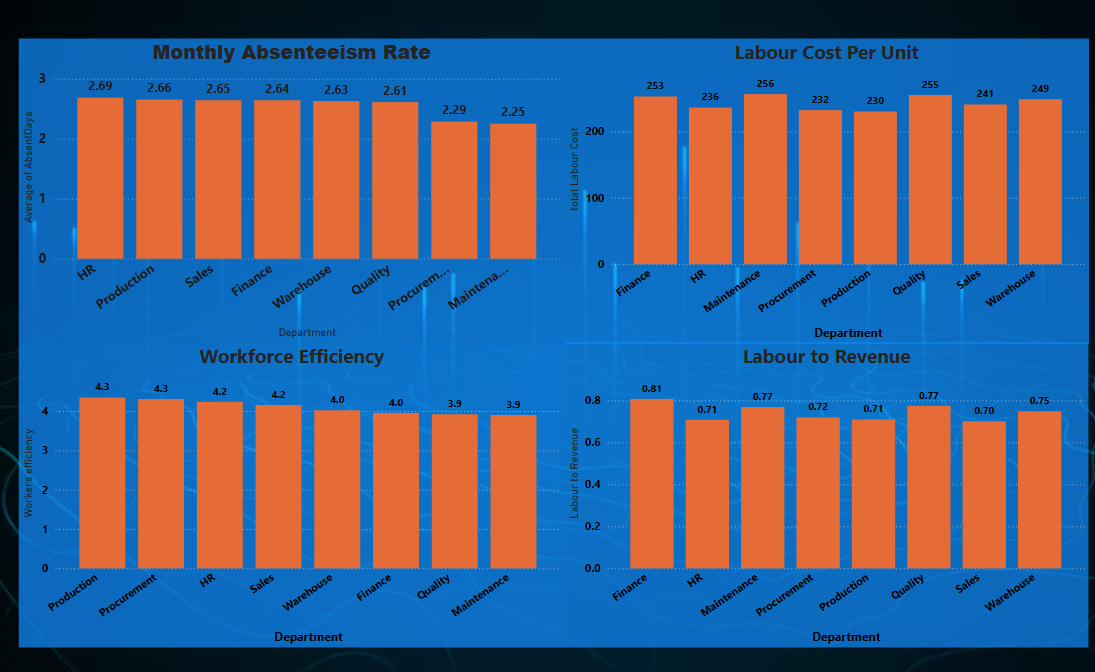

The dashboard page shown, as its layout file describes it:
{"tool":"powerbi","page":{"name":"Page 2","canvas":[1500,982],"ordinal":1},"visuals":[{"type":"clusteredColumnChart","title":" Monthly Absenteeism Rate","fields":{"Y":["Avg(Employees.AbsentDays)"],"Category":["Employees.Department"]},"box":[38.9,96.4,728.7,405.8],"z":0},{"type":"clusteredColumnChart","title":" Workforce Efficiency","fields":{"Category":["Employees.Department"],"Y":["select","Employees.total labour cost"]},"box":[38.9,502.1,728.7,407.5],"z":1000},{"type":"clusteredColumnChart","title":"Labour Cost Per Unit","fields":{"Category":["Employees.Department"],"Y":["select","Employees.total Labour Cost"]},"box":[767.2,96.7,698.8,406.9],"z":2000},{"type":"clusteredColumnChart","title":"Labour to Revenue","fields":{"Y":["select","Employees.Labour to Revenue"],"Category":["Employees.Department"]},"box":[767.6,502.1,698.3,407.5],"z":3000}]}

Visuals, with their boxes on the page's 1500x982 design canvas (x1, y1, x2, y2). These are canvas units, not pixel positions in the 1095x672 screenshot, which may show the page scaled, cropped or inside an application window:
" Monthly Absenteeism Rate" clusteredColumnChart: {"x1": 39, "y1": 96, "x2": 768, "y2": 502}
" Workforce Efficiency" clusteredColumnChart: {"x1": 39, "y1": 502, "x2": 768, "y2": 910}
"Labour Cost Per Unit" clusteredColumnChart: {"x1": 767, "y1": 97, "x2": 1466, "y2": 504}
"Labour to Revenue" clusteredColumnChart: {"x1": 768, "y1": 502, "x2": 1466, "y2": 910}
